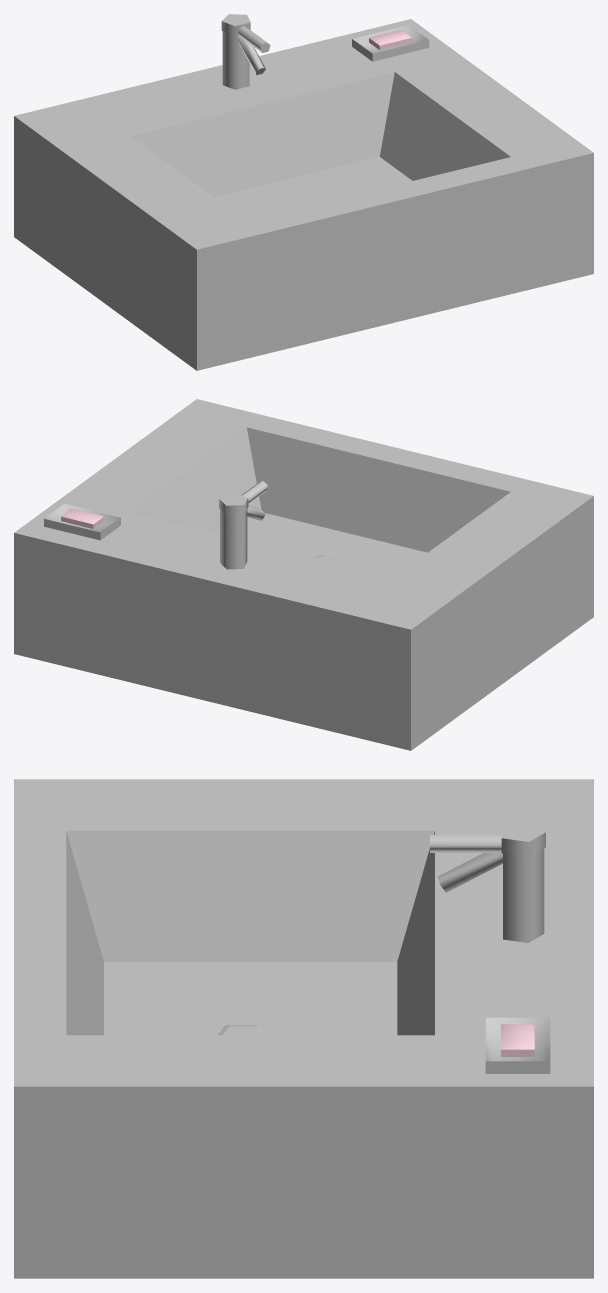
The model's file is Basin.fbx.
The picture shows the model from 3 angles, top to bottom: view 1: azimuth 30°, elevation 25°; view 2: azimuth 150°, elevation 25°; view 3: azimuth 270°, elevation 25°; orthographic projection. The views are drawn at different scales.
Parts seen in each view (by area): view 1: Box002, Cone002, Box003, Box004; view 2: Box002, Cone002, Box003, Box004; view 3: Box002, Cone002, Box003, Box004.
Boxes of the visible parts, left/top/right/bottom form: Box002: left=14, top=19, right=593, bottom=370; Cone002: left=221, top=14, right=270, bottom=89; Box003: left=352, top=25, right=429, bottom=61; Box004: left=369, top=30, right=412, bottom=50; Box002: left=14, top=399, right=593, bottom=750; Cone002: left=219, top=481, right=267, bottom=569; Box003: left=44, top=504, right=120, bottom=540; Box004: left=61, top=508, right=103, bottom=528; Box002: left=14, top=779, right=593, bottom=1278; Cone002: left=430, top=822, right=545, bottom=942; Box003: left=485, top=1017, right=550, bottom=1073; Box004: left=501, top=1024, right=534, bottom=1056.
Size of the model in its own units: 19.28 by 8.6 by 15.38.
